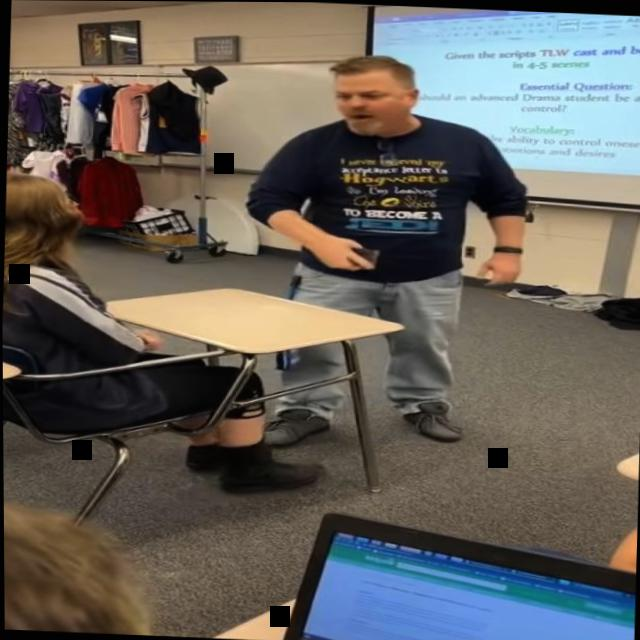NO-Mask: (326, 59, 421, 138)
